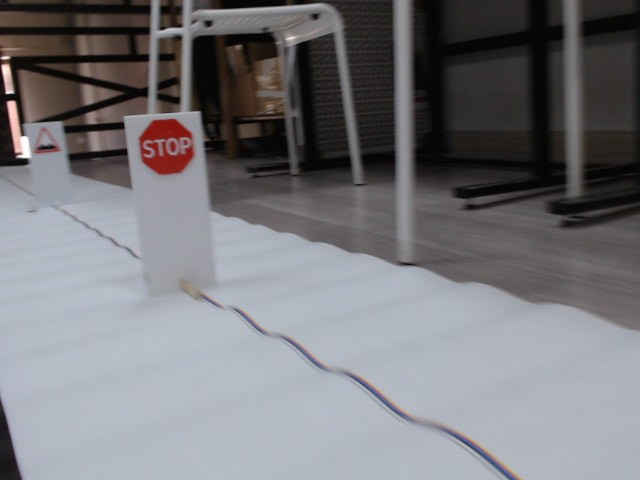Stop: (134, 117, 197, 174)
